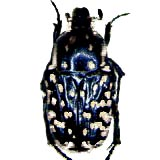Oxythyrea_albopicta: (33, 1, 135, 160)
